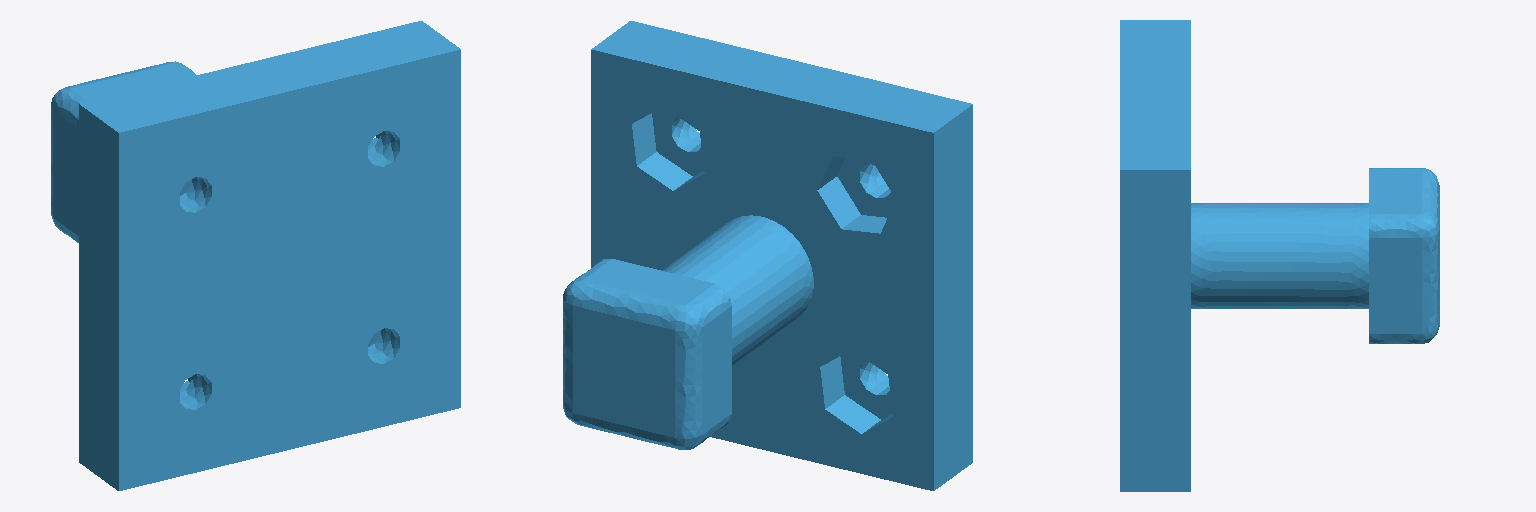
The robot description file, URDF, robot "square_3":
<?xml version="1.0"?>

<robot name="square_3">
	<link name="world">
        </link>

        <joint name="world_to_indenter" type="prismatic">
                <parent link="world"/>
                <child link="indenter"/>
                <origin rpy="0.0 0.0 0.0" xyz="0.0 0.0 0.0"/>
                <axis xyz="0 1 0"/>
                <dynamics damping="0.0" friction="0.0"/>
                <limit lower="0.0" upper="0.1" velocity="1e9" effort="1e9"/>
        </joint>

	<link name="indenter">
		<visual>
			<origin rpy="0.0 0.0 0.0" xyz="0.0 0.0 0.0"/>
			<geometry>
				<mesh filename="../meshes/square_3_0.2.stl" scale="0.001 0.001 0.001"/>
			</geometry>
		</visual>
		<collision>
			<origin rpy="0.0 0.0 0.0" xyz="0.0 0.0 0.0"/>
			<geometry>
				<mesh filename="../meshes/square_3_0.2.stl" scale="0.001 0.001 0.001"/>
			</geometry>
		</collision>
		<!-- <inertial>
			<origin rpy="0.0 0.0 0.0" xyz="0.0 -14.0636e-3 0.0"/>
			<mass value="0.00075752"/>
			<inertia ixx="2.03201e-8" iyy="1.24370e-8" izz="1.90589e-8" ixy="0.0" ixz="-1.96737e-15" iyz="0.0"/>
		</inertial> -->
	</link>
</robot>

--- Render facts (derived) ---
The picture shows the robot from 3 angles, left to right: view 1: azimuth 30°, elevation 25°; view 2: azimuth 150°, elevation 25°; view 3: azimuth 270°, elevation 25°; orthographic projection.
Model square_3 with 2 links and 1 joints (1 prismatic), rooted at world, posed all joints at 0.
Links seen in each view (by area): view 1: indenter; view 2: indenter; view 3: indenter.
Link boxes in pixels (x1,y1,x2,y2): indenter: (51,21,460,490); indenter: (563,21,972,490); indenter: (1120,20,1439,491).
Bounding box of the posed robot: 0.02 × 0.018 × 0.02 m (x, y, z).
Meshes: 1 distinct files referenced, 1 mesh visuals loaded (1 ASCII STL).
